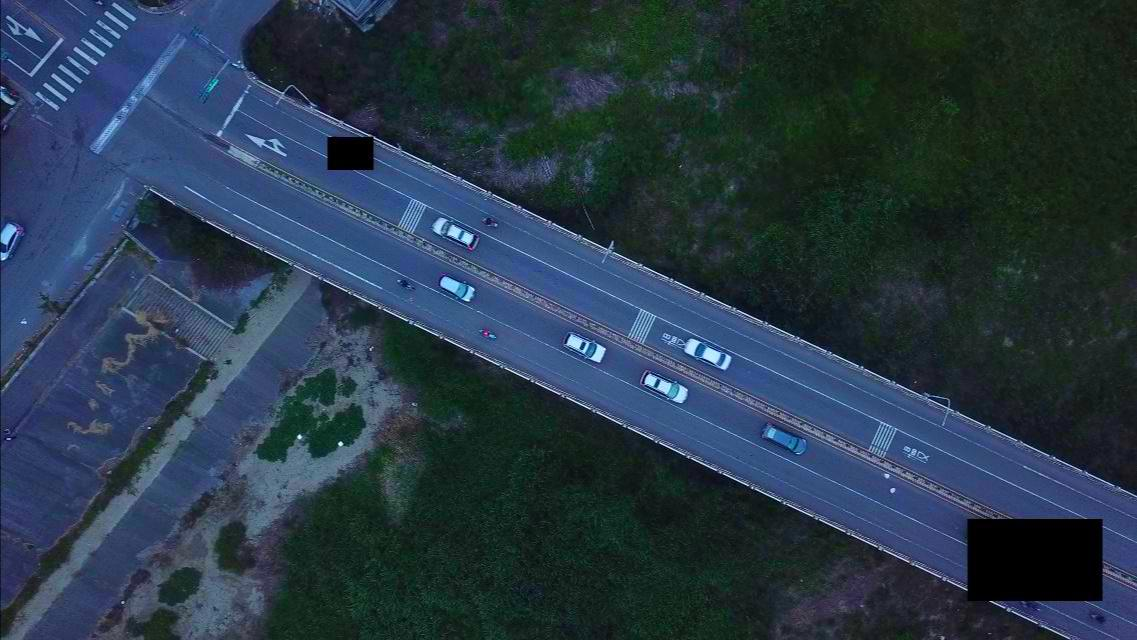vehicle: (640, 370, 688, 405), (683, 337, 732, 371), (758, 423, 806, 457), (430, 217, 479, 250), (562, 331, 606, 363), (436, 274, 476, 303), (1, 222, 25, 262)
